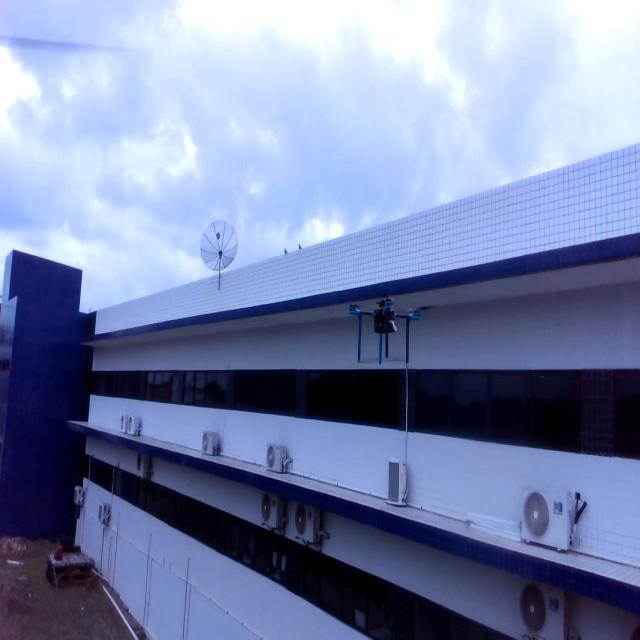-uav-: (342, 277, 422, 376)
